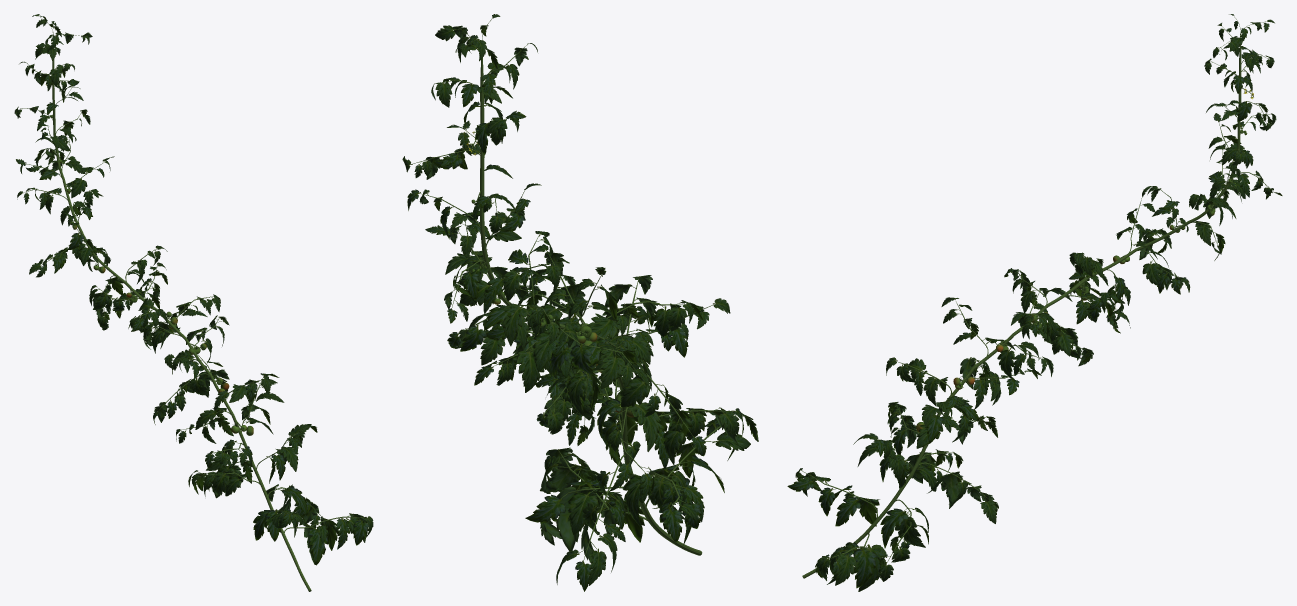
Rendered from tomato_012.glb.
The picture shows the model from 3 angles, left to right: view 1: azimuth 30°, elevation 25°; view 2: azimuth 150°, elevation 25°; view 3: azimuth 270°, elevation 25°; orthographic projection. The views are drawn at different scales.
Parts seen in each view (by area): view 1: tomato_012; view 2: tomato_012; view 3: tomato_012.
Part boxes in pixels (bbox=[...]): tomato_012: bbox=[14, 14, 373, 591]; tomato_012: bbox=[402, 14, 758, 591]; tomato_012: bbox=[787, 14, 1282, 591].
Bounding box in the file's own units: 1.22 × 2.62 × 2.25.
Materials: 16 (15 with a texture image).
